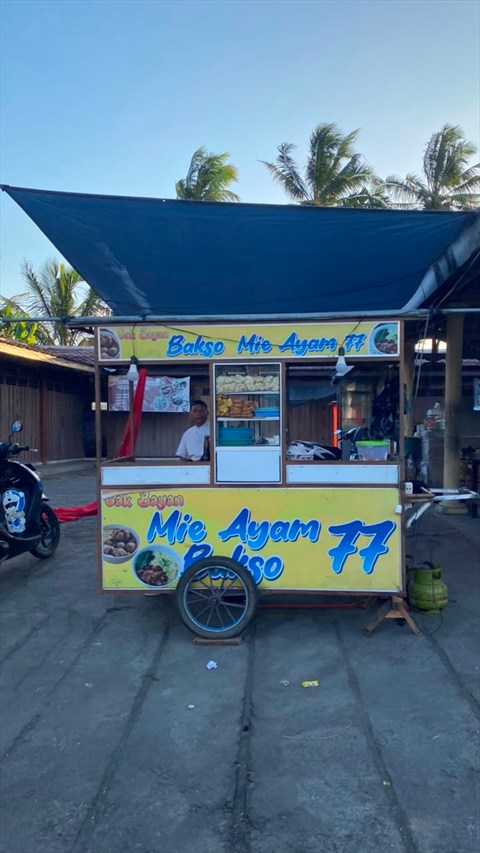Bakso: (10, 105, 434, 606)
